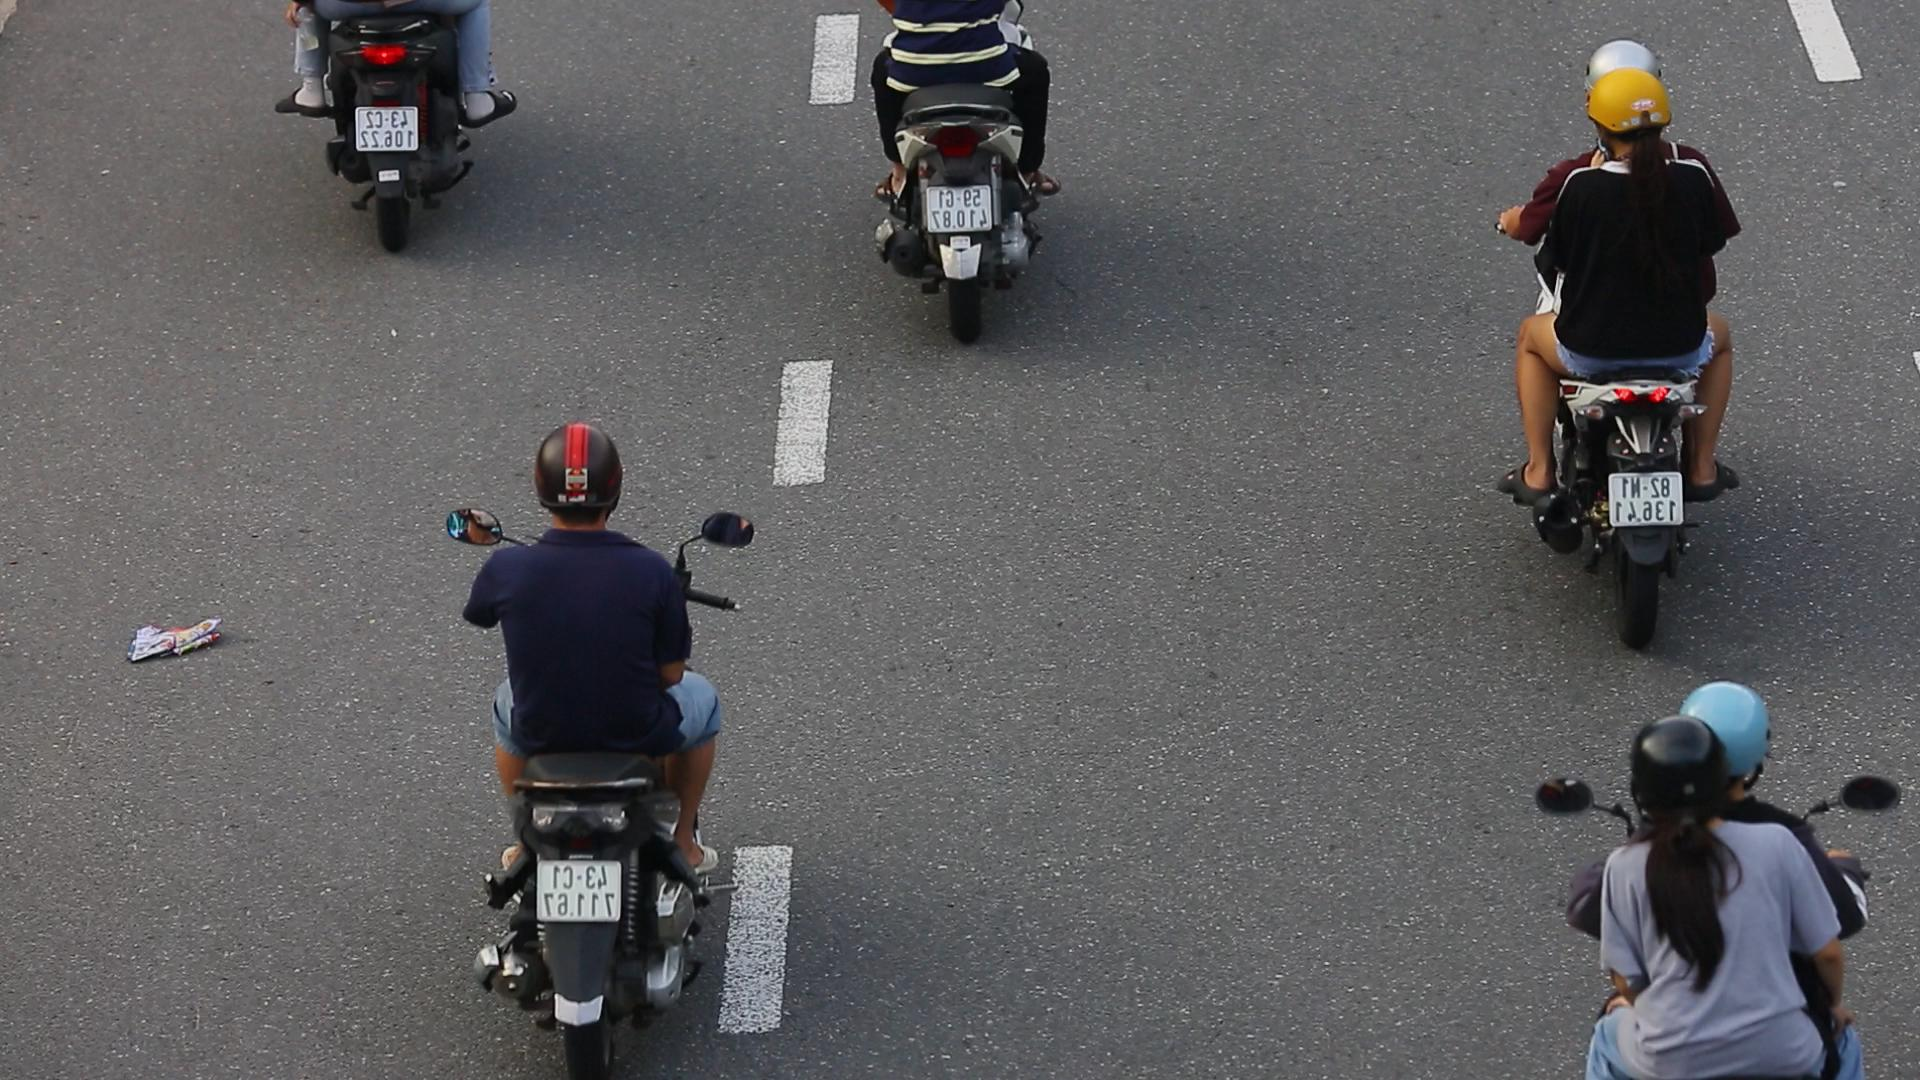motobike: (439, 421, 740, 1080), (1491, 37, 1758, 653)
